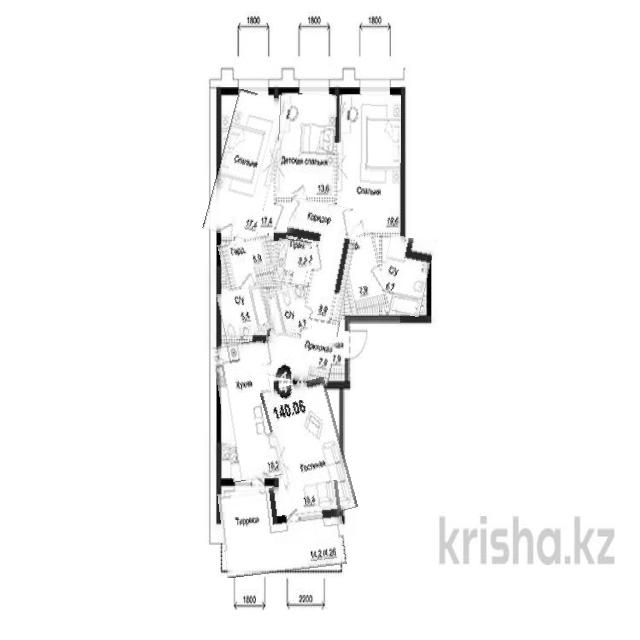balcony: (217, 488, 347, 578)
bathroom: (375, 234, 430, 317), (219, 287, 271, 337), (267, 286, 310, 336)
hallway: (263, 197, 350, 387)
kitchen: (217, 341, 279, 480)
living_room: (204, 88, 291, 241), (268, 379, 350, 520), (339, 95, 401, 231), (280, 92, 337, 196)
other: (333, 232, 390, 315), (218, 234, 279, 292), (274, 237, 312, 288)
